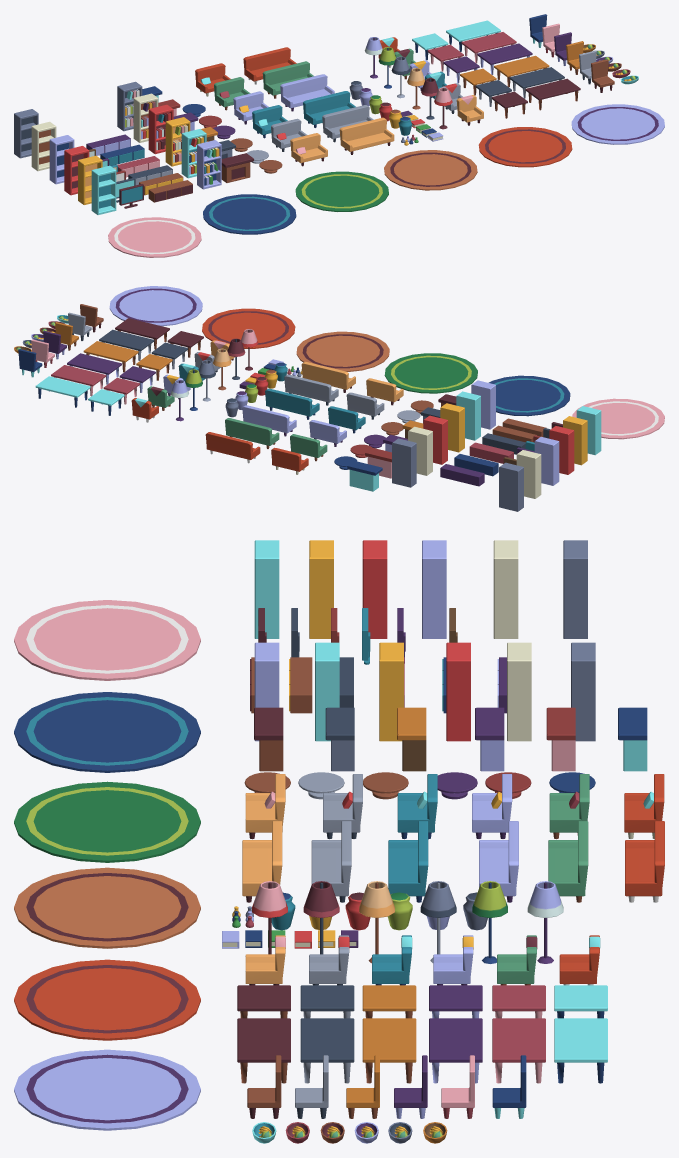
The model's file is MDL_Prop_FurniturePack.fbx.
3 renders of one model, top to bottom at view 1: azimuth 30°, elevation 25°; view 2: azimuth 150°, elevation 25°; view 3: azimuth 270°, elevation 25°, orthographic. The views are drawn at different scales.
Parts seen in each view (by area): view 1: MDL_Prop_House_Rug6, MDL_Prop_House_Rug1, MDL_Prop_House_Rug2, MDL_Prop_House_Rug4, MDL_Prop_House_Rug5, MDL_Prop_House_Rug3, MDL_Prop_House_SofaM1, MDL_Prop_House_Bookcase1, MDL_Prop_House_SofaM4, MDL_Prop_House_BookShelf02-1, MDL_Prop_House_SofaM6, MDL_Prop_House_SofaM3 (+45 smaller); view 2: MDL_Prop_House_Rug3, MDL_Prop_House_Rug6, MDL_Prop_House_Rug4, MDL_Prop_House_Rug5, MDL_Prop_House_Rug2, MDL_Prop_House_Rug1, MDL_Prop_House_Bookcase6, MDL_Prop_House_BookShelf02-6, MDL_Prop_House_SofaM3, MDL_Prop_House_Bookcase4, MDL_Prop_House_SofaM6, MDL_Prop_House_SofaM2 (+46 smaller); view 3: MDL_Prop_House_Rug6, MDL_Prop_House_Rug1, MDL_Prop_House_Rug4, MDL_Prop_House_Rug2, MDL_Prop_House_Rug3, MDL_Prop_House_Rug5, MDL_Prop_House_TableM2, MDL_Prop_House_TableM3, MDL_Prop_House_TableM6, MDL_Prop_House_TableM5, MDL_Prop_House_TableM1, MDL_Prop_House_TableM4 (+58 smaller).
Part boxes in pixels (left/top/right/bottom): MDL_Prop_House_Rug6: left=571, top=104, right=664, bottom=144; MDL_Prop_House_Rug1: left=108, top=217, right=201, bottom=257; MDL_Prop_House_Rug2: left=203, top=194, right=296, bottom=234; MDL_Prop_House_Rug4: left=384, top=150, right=477, bottom=190; MDL_Prop_House_Rug5: left=478, top=127, right=572, bottom=167; MDL_Prop_House_Rug3: left=295, top=171, right=388, bottom=211; MDL_Prop_House_SofaM1: left=339, top=117, right=394, bottom=154; MDL_Prop_House_Bookcase1: left=91, top=165, right=116, bottom=214; MDL_Prop_House_SofaM4: left=280, top=74, right=334, bottom=111; MDL_Prop_House_BookShelf02-1: left=197, top=140, right=221, bottom=189; MDL_Prop_House_SofaM6: left=243, top=47, right=296, bottom=84; MDL_Prop_House_SofaM3: left=303, top=91, right=355, bottom=127; MDL_Prop_House_Rug3: left=384, top=353, right=477, bottom=393; MDL_Prop_House_Rug6: left=109, top=286, right=202, bottom=326; MDL_Prop_House_Rug4: left=296, top=331, right=389, bottom=371; MDL_Prop_House_Rug5: left=202, top=308, right=295, bottom=348; MDL_Prop_House_Rug2: left=488, top=375, right=570, bottom=416; MDL_Prop_House_Rug1: left=572, top=398, right=664, bottom=439; MDL_Prop_House_Bookcase6: left=499, top=462, right=523, bottom=511; MDL_Prop_House_BookShelf02-6: left=392, top=438, right=416, bottom=487; MDL_Prop_House_SofaM3: left=265, top=388, right=319, bottom=419; MDL_Prop_House_Bookcase4: left=534, top=436, right=559, bottom=485; MDL_Prop_House_SofaM6: left=205, top=432, right=260, bottom=463; MDL_Prop_House_SofaM2: left=284, top=374, right=338, bottom=405; MDL_Prop_House_Rug6: left=14, top=1049, right=200, bottom=1130; MDL_Prop_House_Rug1: left=14, top=600, right=200, bottom=680; MDL_Prop_House_Rug4: left=14, top=867, right=200, bottom=948; MDL_Prop_House_Rug2: left=14, top=692, right=200, bottom=772; MDL_Prop_House_Rug3: left=14, top=781, right=200, bottom=862; MDL_Prop_House_Rug5: left=14, top=959, right=200, bottom=1040; MDL_Prop_House_TableM2: left=300, top=1018, right=354, bottom=1083; MDL_Prop_House_TableM3: left=362, top=1018, right=416, bottom=1083; MDL_Prop_House_TableM6: left=554, top=1018, right=607, bottom=1083; MDL_Prop_House_TableM5: left=492, top=1018, right=545, bottom=1083; MDL_Prop_House_TableM1: left=237, top=1018, right=290, bottom=1083; MDL_Prop_House_TableM4: left=429, top=1018, right=482, bottom=1083.
Size of the model in its own units: 48.28 by 3.47 by 24.27.
